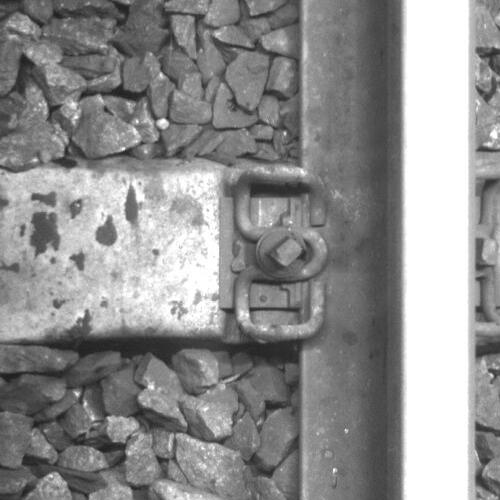rail: (402, 1, 476, 500)
tie_concr: (1, 169, 302, 340)
vossloh: (222, 163, 329, 343)
